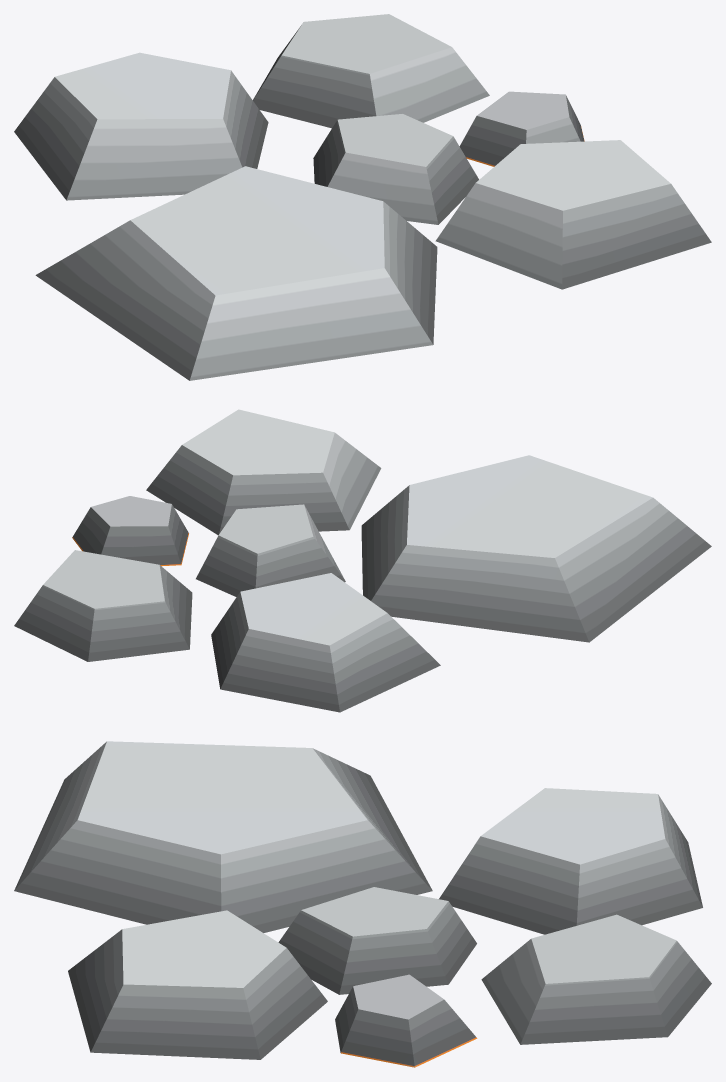
Rendered from rock_002.fbx.
3 views of the same model, one above another, from view 1: azimuth 30°, elevation 25°; view 2: azimuth 150°, elevation 25°; view 3: azimuth 270°, elevation 25° (orthographic). The views are drawn at different scales.
Visible parts, largest first — view 1: rock.002; view 2: rock.002; view 3: rock.002.
Part boxes in pixels (x1,y1,x2,y2): rock.002: [14, 14, 711, 380]; rock.002: [14, 409, 711, 712]; rock.002: [14, 741, 711, 1067].
Bounding box in the file's own units: 8.82 × 0.9341 × 9.03.
